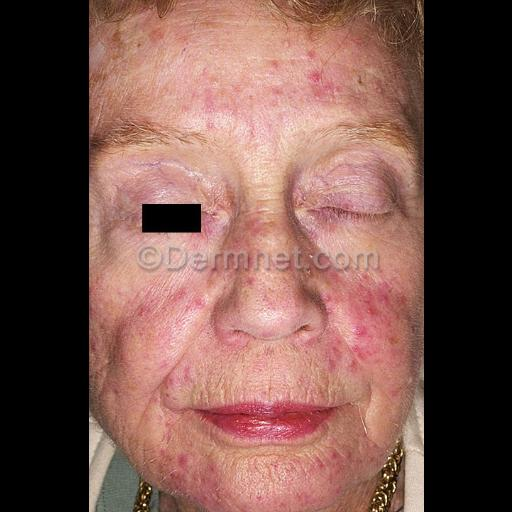Skin_Lesion: (350, 272, 392, 322), (103, 330, 129, 388), (170, 283, 214, 315), (256, 64, 282, 118), (96, 208, 118, 266), (308, 66, 338, 108), (88, 276, 100, 346), (320, 450, 348, 480), (328, 347, 362, 371), (192, 80, 214, 112), (126, 300, 154, 324), (267, 454, 283, 492), (244, 275, 266, 299), (414, 412, 424, 462), (244, 216, 264, 236), (178, 451, 186, 467)
